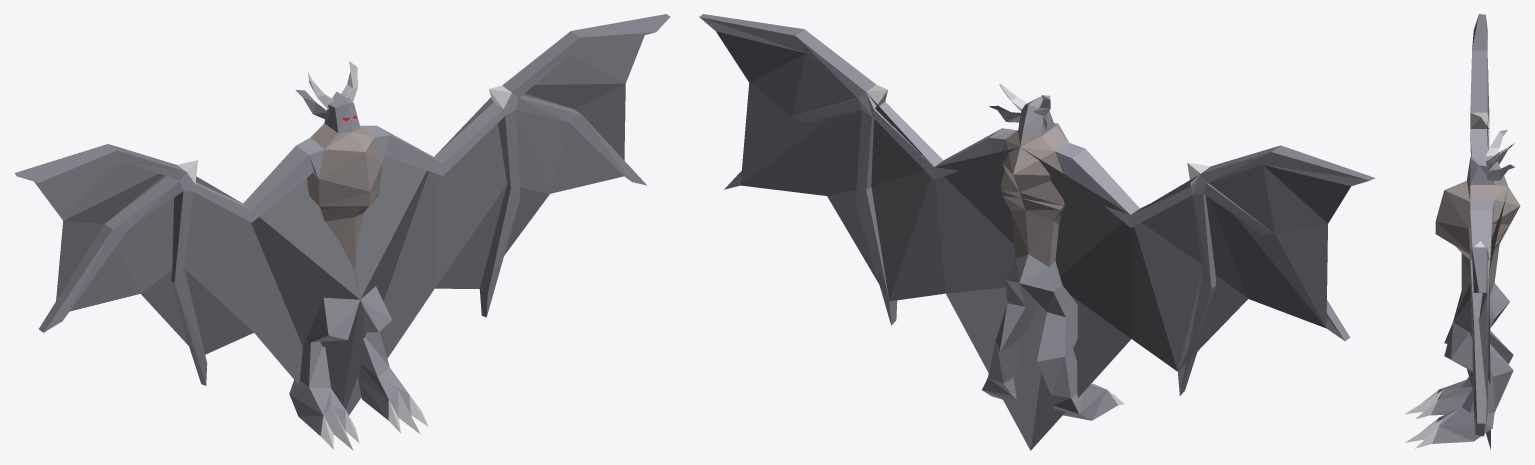
File: gargoyle.gltf
The picture shows the model from 3 angles, left to right: view 1: azimuth 30°, elevation 25°; view 2: azimuth 150°, elevation 25°; view 3: azimuth 270°, elevation 25°; orthographic projection. The views are drawn at different scales.
Size of the model in its own units: 380 by 199 by 67.
Materials: 1 (1 with a texture image).
